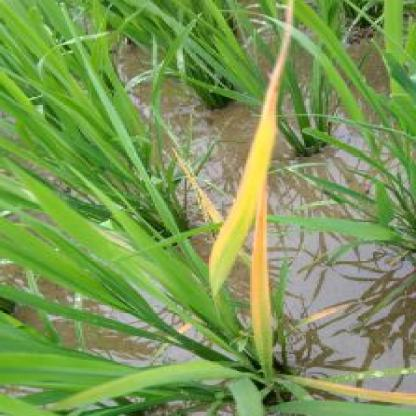Tungro: (212, 4, 295, 344)
